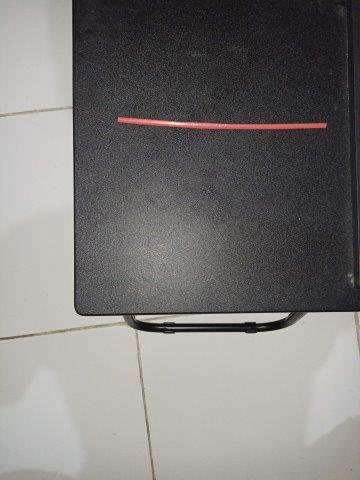sedotan: (117, 117, 326, 130)
